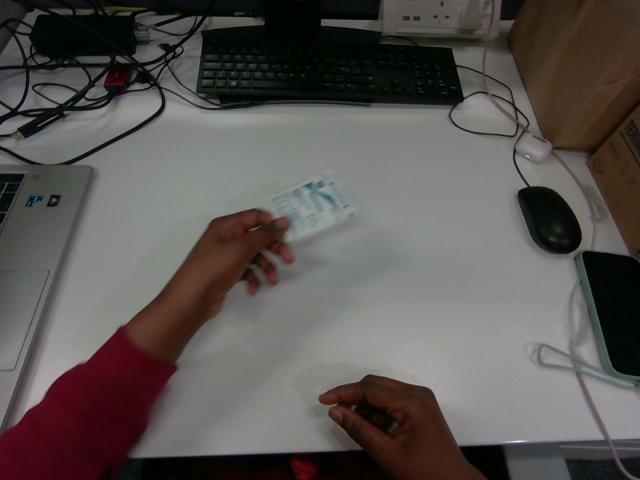gauze: (270, 170, 356, 241)
